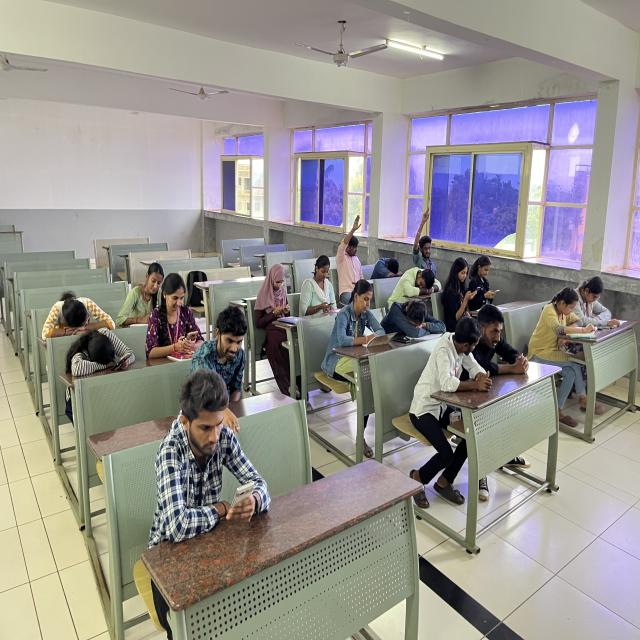Hand Rising: (334, 208, 374, 287), (408, 207, 448, 267)
Reading: (524, 279, 596, 359)
Sleeping: (62, 323, 140, 390), (34, 283, 121, 336), (382, 296, 449, 338), (394, 266, 446, 303), (373, 242, 408, 281)
Using Phone: (132, 370, 278, 564), (145, 258, 215, 356), (248, 253, 303, 346), (304, 250, 344, 326), (472, 251, 508, 306)
Writing: (337, 280, 394, 358)
